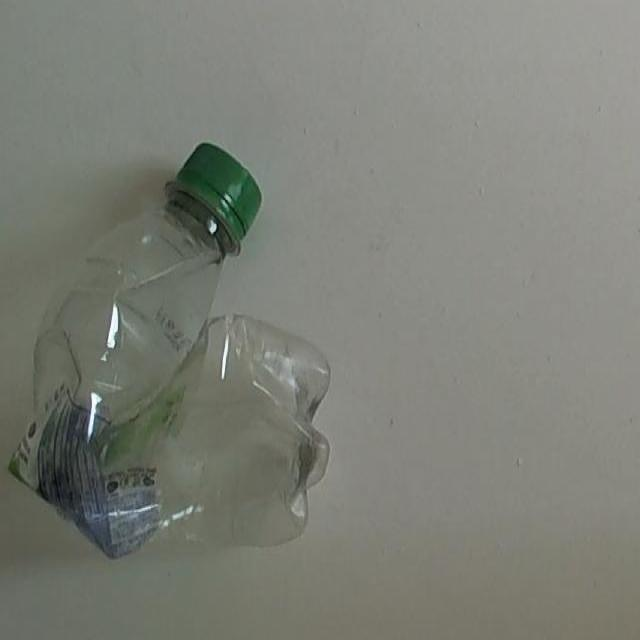defect: (6, 136, 333, 563)
